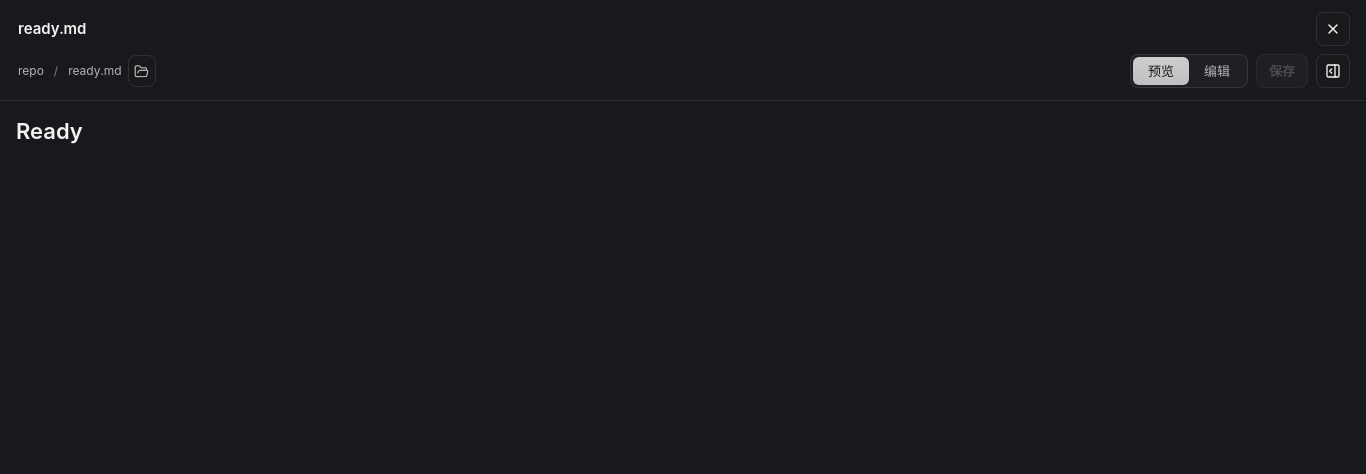
Scenario: FileWorkspaceView › 新文件加载失败时不会保留旧文件的预览状态
The width and height of the screenshot is (1366, 474).
Expected: the heading "Ready" is shown, x1=16 y1=118 x2=83 y2=144
Click the button named "展开目录树": (1333, 71) x1=1316 y1=54 x2=1350 y2=88
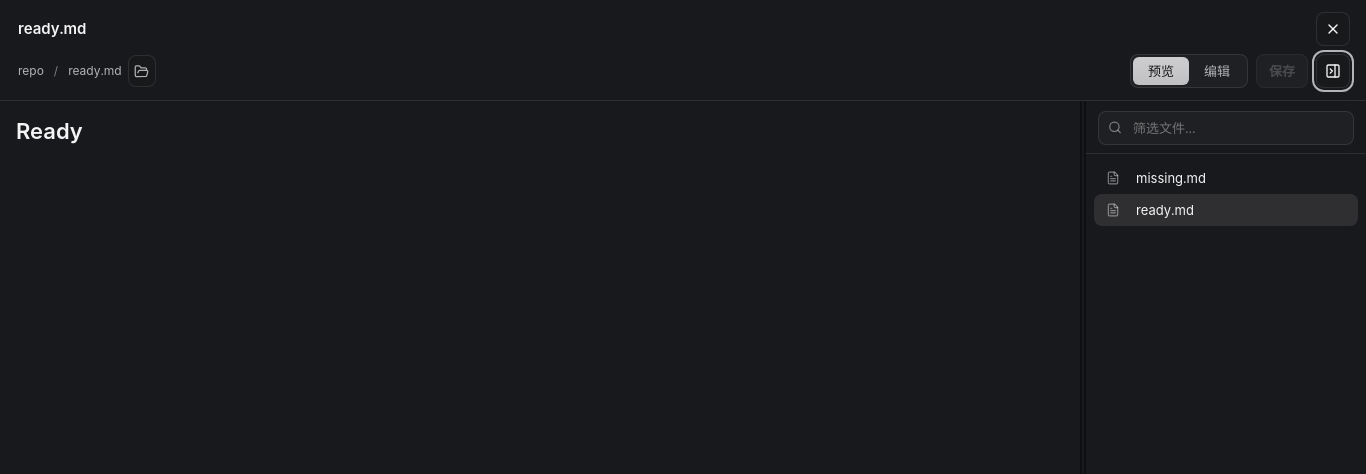
Click the list item "missing.md": (1171, 178) x1=1094 y1=162 x2=1358 y2=194
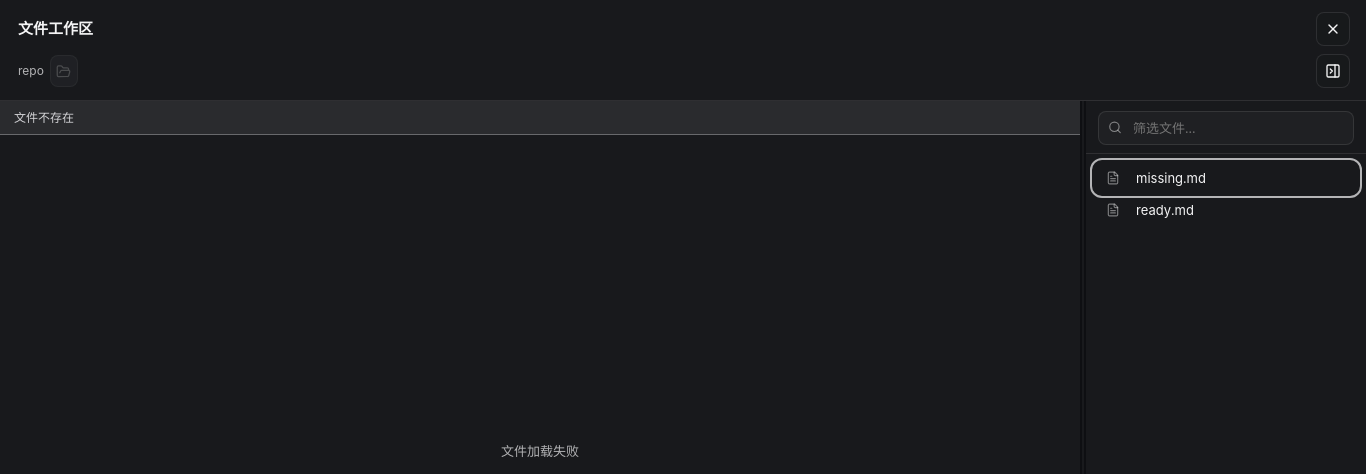
Expected: the text "文件不存在" is shown, x1=14 y1=109 x2=74 y2=126
Expected: the button "预览" is gone
